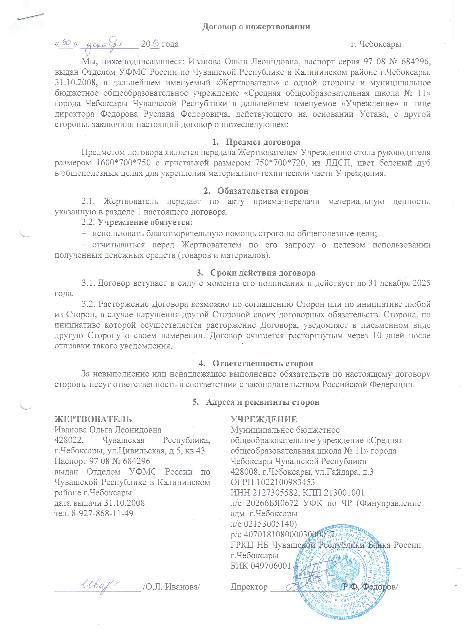stamp: (294, 527, 390, 619)
